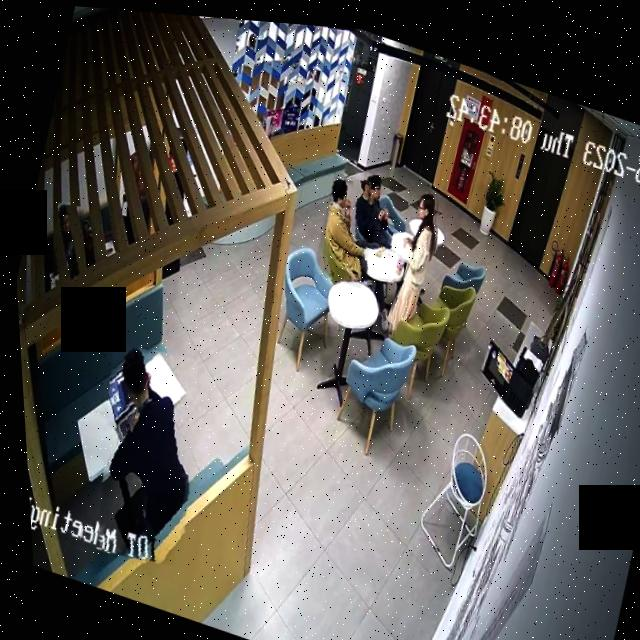person: (60, 329, 222, 574), (372, 177, 452, 339), (305, 164, 385, 284), (344, 162, 405, 250), (37, 197, 91, 285)
